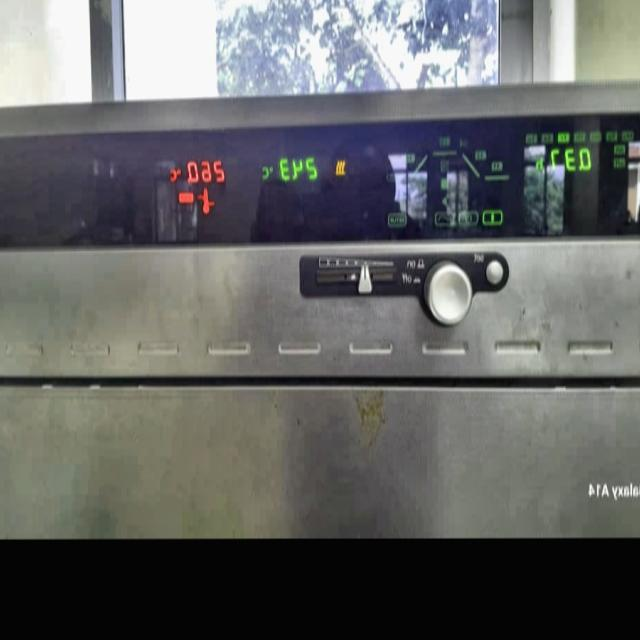Incubator: (0, 72, 640, 540)
